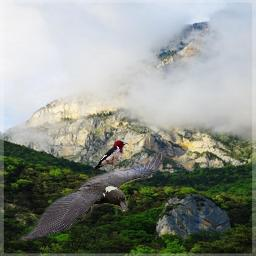Crow: (19, 152, 164, 242)
Woodpecker: (90, 140, 129, 170)
